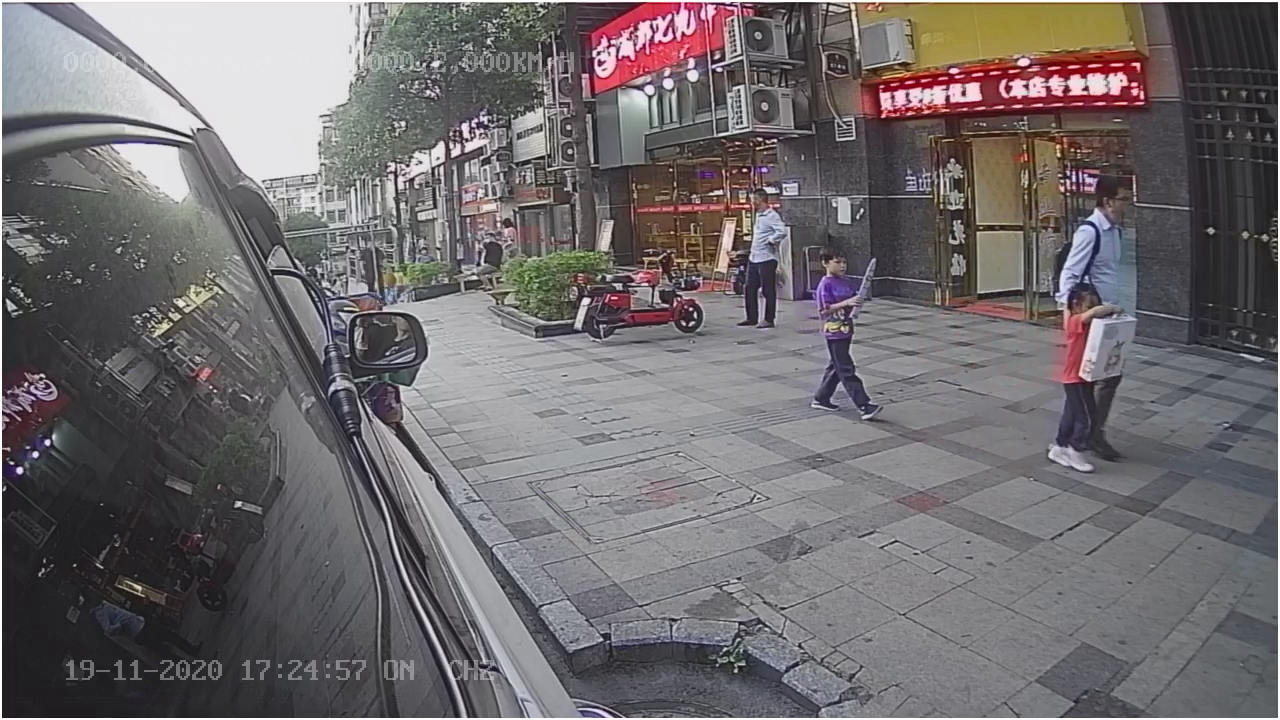person: (805, 242, 888, 421), (1065, 171, 1141, 291)
